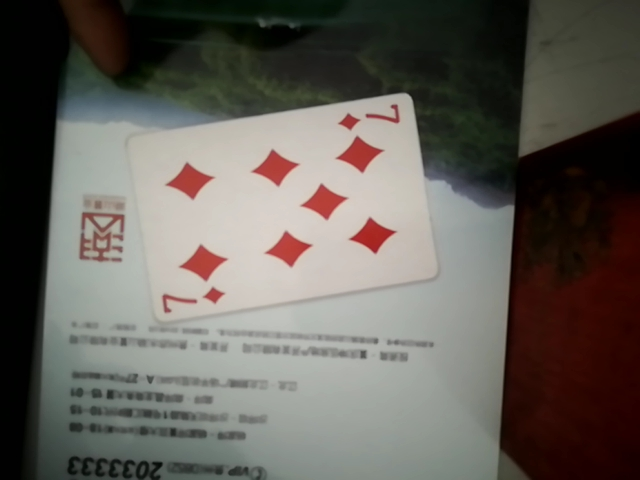fk 7: (104, 87, 431, 328)
